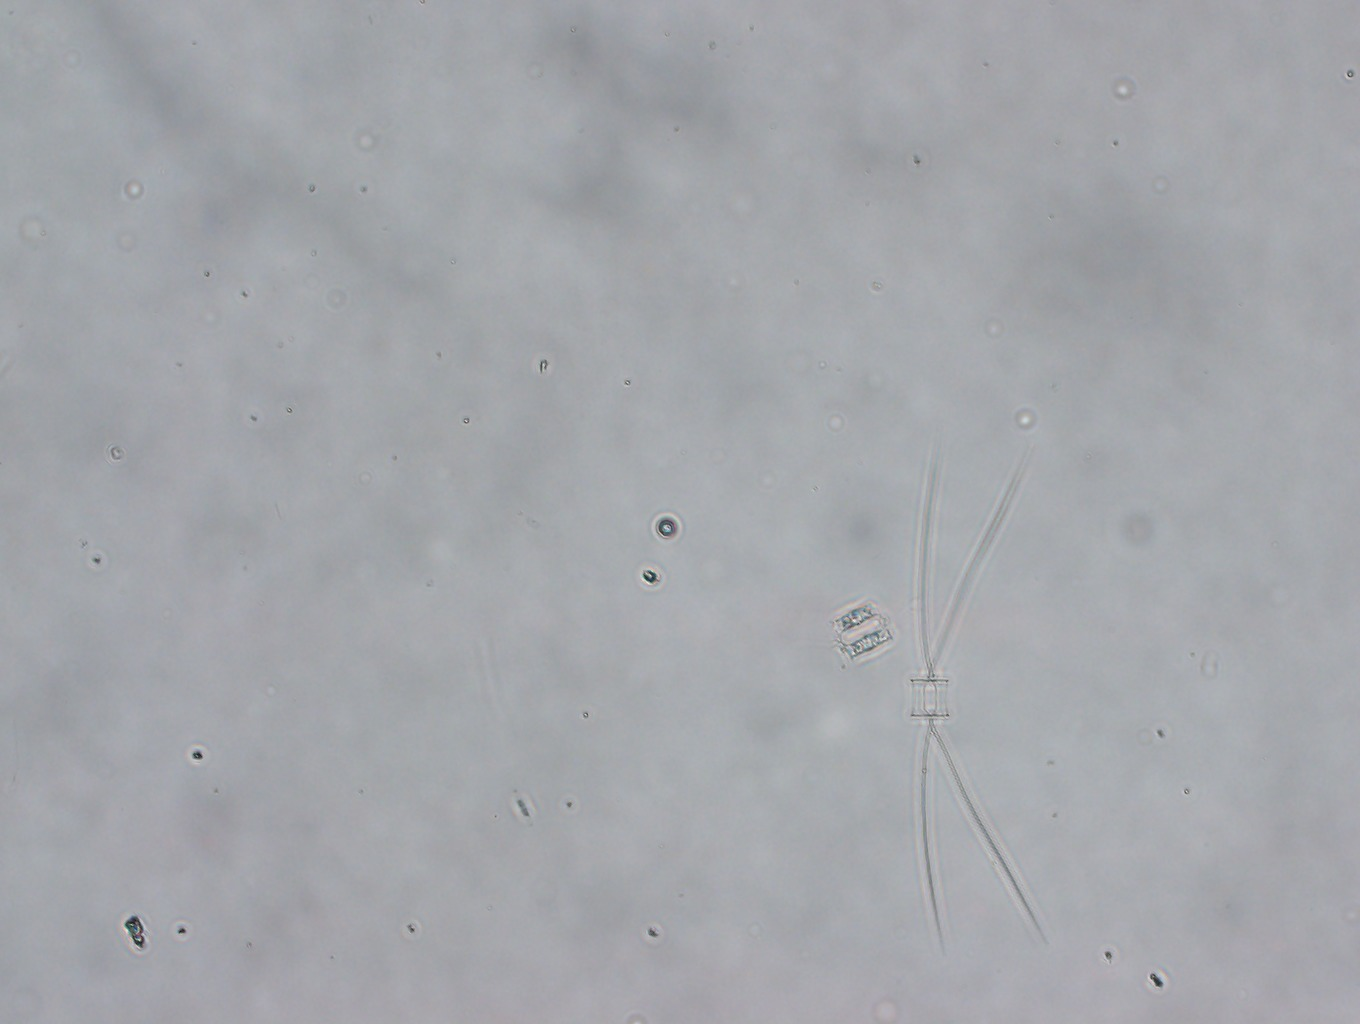chaetoceros: (896, 415, 1058, 959)
